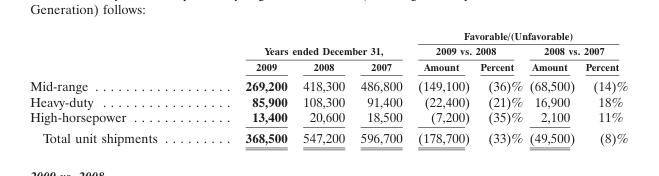table: (29, 28, 627, 145)
table column: (29, 28, 200, 145), (200, 28, 294, 145), (409, 28, 474, 145), (351, 28, 409, 145), (294, 28, 351, 145), (525, 28, 579, 145), (474, 28, 525, 145), (579, 28, 627, 145)
table column header: (29, 28, 627, 75)
table row: (29, 75, 627, 93), (29, 109, 627, 127), (29, 127, 627, 145), (29, 58, 627, 75), (29, 42, 627, 58), (29, 93, 627, 109), (29, 28, 627, 42)
table spanning cell: (200, 28, 409, 58), (409, 28, 627, 42), (409, 42, 525, 58), (525, 42, 627, 58)
